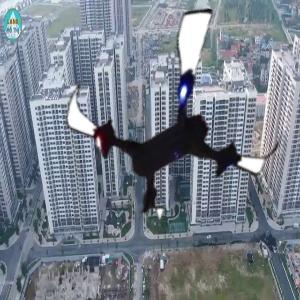drone: (61, 4, 288, 231)
